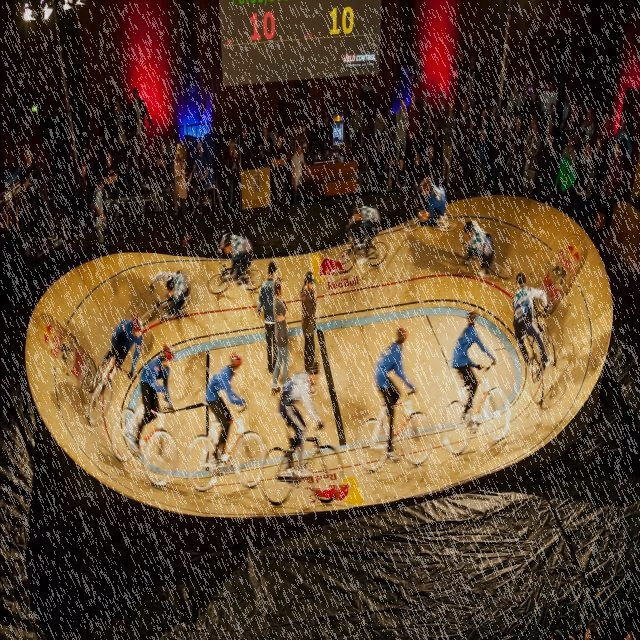pessoa: (375, 326, 416, 462), (452, 308, 497, 426), (280, 361, 324, 478), (205, 351, 249, 466), (134, 342, 176, 454), (512, 272, 554, 374), (98, 309, 144, 396), (19, 148, 58, 248), (257, 260, 279, 378), (271, 275, 292, 396), (129, 86, 154, 176), (149, 268, 191, 321), (600, 139, 624, 231), (111, 98, 135, 188), (173, 142, 192, 248), (574, 138, 596, 228), (462, 220, 495, 280), (344, 204, 380, 258), (300, 270, 318, 374), (413, 176, 447, 230), (218, 232, 253, 282), (451, 98, 471, 185), (521, 120, 542, 200), (490, 112, 509, 197), (587, 133, 606, 218), (438, 100, 456, 188), (508, 114, 526, 198), (189, 141, 209, 215), (554, 133, 578, 193), (290, 140, 312, 204), (573, 106, 595, 170), (554, 90, 574, 160), (102, 149, 121, 222), (270, 131, 288, 207), (154, 140, 171, 220), (404, 92, 420, 176), (460, 118, 478, 186), (91, 176, 108, 244), (78, 161, 95, 227), (434, 89, 448, 169), (558, 100, 580, 150), (394, 96, 409, 167), (348, 106, 363, 176), (418, 88, 430, 170), (226, 138, 238, 218), (474, 129, 488, 196), (486, 105, 498, 180), (612, 118, 634, 158), (540, 80, 558, 128), (374, 108, 388, 168), (317, 110, 334, 156), (408, 54, 423, 105), (520, 76, 533, 134), (236, 126, 251, 170), (506, 81, 522, 122), (385, 106, 397, 160), (260, 124, 274, 168), (539, 116, 556, 152), (422, 144, 438, 182), (453, 50, 466, 95), (598, 110, 614, 145), (170, 147, 178, 216), (540, 131, 556, 164), (505, 109, 521, 142), (546, 169, 557, 215), (395, 154, 408, 191), (384, 152, 396, 192), (527, 86, 539, 125), (466, 54, 476, 98), (542, 102, 557, 130), (525, 112, 540, 137), (536, 79, 550, 105), (476, 107, 490, 132), (410, 152, 422, 180), (268, 126, 280, 147)
